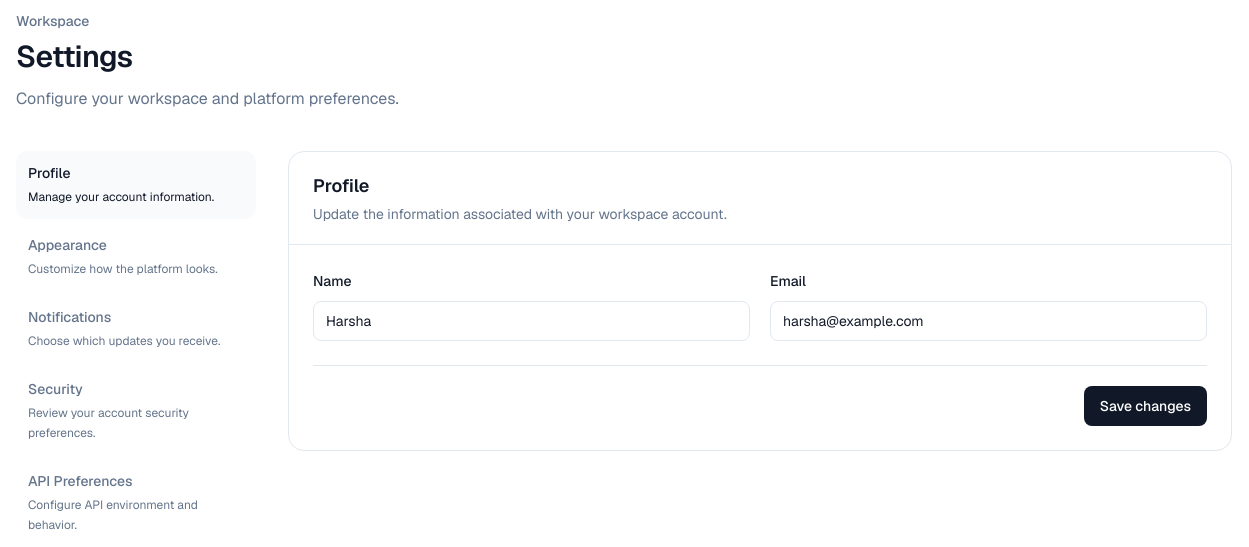
Scenario: SettingsPage › shows confirmation after saving profile changes
This screenshot has width=1249, height=547.
Click the button "Save changes" at (1145, 406), box [1084,386,1207,426]
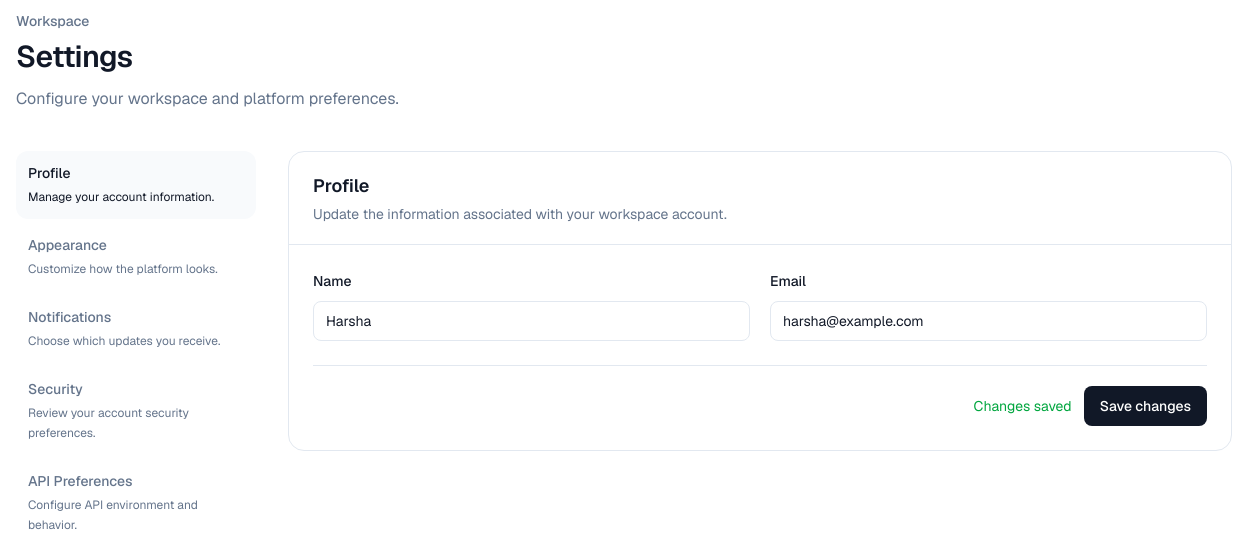
expect the text "Changes saved" is shown: met, box [974,396,1072,416]
